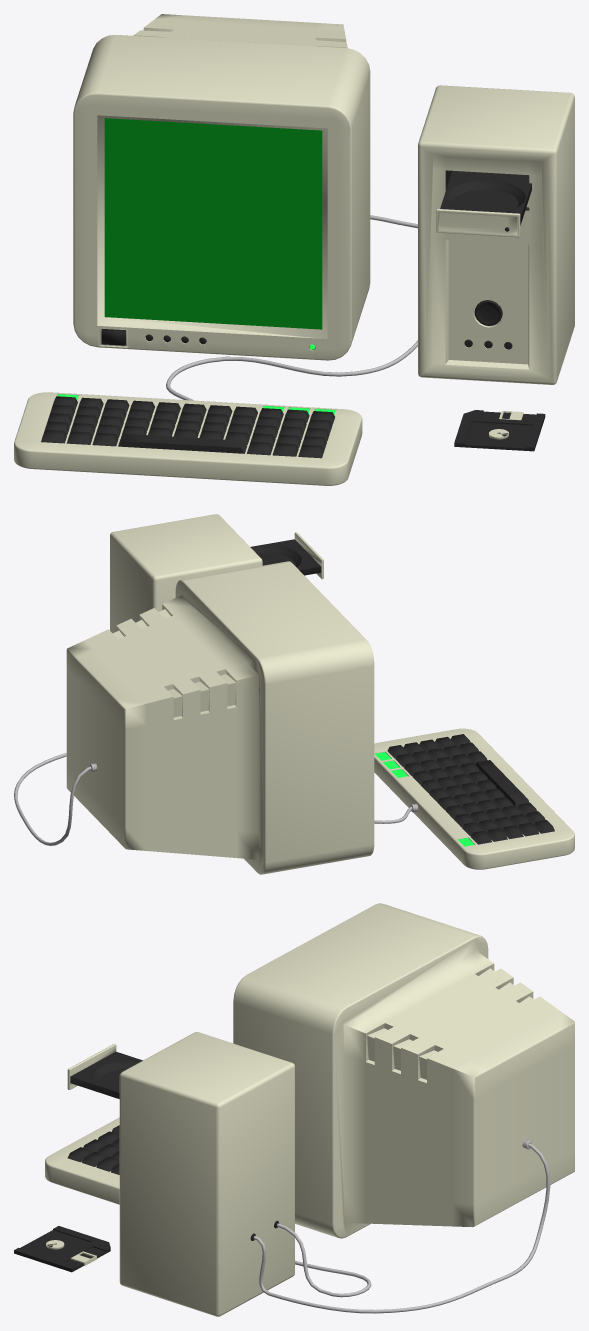
The model's file is computer1.glb.
The picture shows the model from 3 angles, top to bottom: view 1: azimuth 30°, elevation 25°; view 2: azimuth 150°, elevation 25°; view 3: azimuth 270°, elevation 25°; orthographic projection. The views are drawn at different scales.
Parts seen in each view (by area): view 1: Monitor, Monitor.001, CPU, Keyboard, Disk Tray, Floppy Disk; view 2: Monitor, Keyboard, CPU, Disk Tray; view 3: Monitor, CPU, Keyboard, Floppy Disk, Disk Tray.
Boxes of the visible parts, x1,y1,x2,y2 form: Monitor: (73,14,417,360); Monitor.001: (104,118,322,329); CPU: (418,85,574,384); Keyboard: (14,340,417,485); Disk Tray: (436,170,531,237); Floppy Disk: (454,410,545,451); Monitor: (14,561,374,874); Keyboard: (374,728,574,869); CPU: (110,514,262,633); Disk Tray: (250,532,323,579); Monitor: (233,903,574,1313); CPU: (119,1032,294,1316); Keyboard: (45,1117,371,1297); Floppy Disk: (14,1226,110,1272); Disk Tray: (67,1044,142,1098).
Size of the model in its own units: 9.27 by 4.29 by 8.82.
